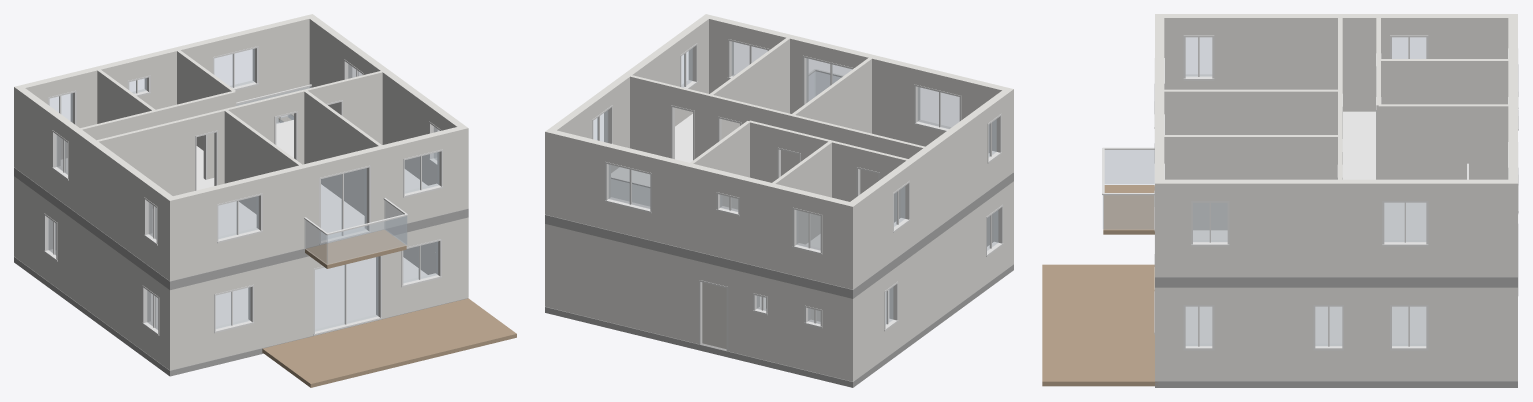
Rendered from house2_scandi_shell.glb.
3 renders of one model, left to right at view 1: azimuth 30°, elevation 25°; view 2: azimuth 150°, elevation 25°; view 3: azimuth 270°, elevation 25°, orthographic. The views are drawn at different scales.
Visible parts, largest first — view 1: GF_Terrace, Ext_W.003, Ext_W.010, Ext_S.012, Ext_S.003, FF_y46, Ext_S.009, FF_x73, Floor_GF_Living_room, Ext_S, Ext_N.018, Frame.010 (+57 smaller); view 2: Ext_N.008, Ext_W.003, Ext_W.010, Ext_N.015, Ext_N.018, Ext_N.012, Ext_S.012, FF_x73, Ext_W.013, Slab, FF_x45, Ext_N.009 (+56 smaller); view 3: Ext_E.013, GF_Terrace, Ext_W.010, FF_x54, Ext_E.003, FF_x73, FF_x45, Ext_E.016, Ext_E.009, FF_x26, Ext_E.006, Ext_W.013 (+36 smaller).
Part boxes in pixels (bbox=[...]): GF_Terrace: bbox=[262, 298, 516, 387]; Ext_W.003: bbox=[57, 208, 142, 350]; Ext_W.010: bbox=[69, 125, 150, 262]; Ext_S.012: bbox=[258, 161, 319, 258]; Ext_S.003: bbox=[254, 256, 313, 349]; FF_y46: bbox=[97, 117, 194, 207]; Ext_S.009: bbox=[166, 186, 216, 281]; FF_x73: bbox=[304, 90, 381, 215]; Floor_GF_Living_room: bbox=[226, 257, 427, 329]; Ext_S: bbox=[166, 279, 213, 370]; Ext_N.018: bbox=[254, 14, 315, 100]; Frame.010: bbox=[315, 257, 378, 331]; Ext_N.008: bbox=[545, 224, 698, 343]; Ext_W.003: bbox=[898, 202, 985, 348]; Ext_W.010: bbox=[903, 106, 987, 247]; Ext_N.015: bbox=[652, 155, 720, 256]; Ext_N.018: bbox=[545, 128, 608, 228]; Ext_N.012: bbox=[740, 176, 796, 274]; Ext_S.012: bbox=[855, 51, 917, 143]; FF_x73: bbox=[709, 38, 789, 138]; Ext_W.013: bbox=[850, 176, 892, 286]; Slab: bbox=[545, 264, 1013, 387]; FF_x45: bbox=[792, 58, 871, 133]; Ext_N.009: bbox=[822, 196, 857, 289]; Ext_E.013: bbox=[1229, 179, 1382, 276]; GF_Terrace: bbox=[1042, 264, 1157, 386]; Ext_W.010: bbox=[1214, 14, 1389, 111]; FF_x54: bbox=[1378, 104, 1508, 179]; Ext_E.003: bbox=[1214, 287, 1313, 380]; FF_x73: bbox=[1164, 135, 1339, 230]; FF_x45: bbox=[1164, 89, 1340, 134]; Ext_E.016: bbox=[1428, 179, 1508, 276]; Ext_E.009: bbox=[1428, 287, 1508, 380]; FF_x26: bbox=[1379, 59, 1508, 104]; Ext_E.006: bbox=[1344, 287, 1389, 380]; Ext_W.013: bbox=[1428, 14, 1508, 58].
Size of the model in its own units: 10.54 by 5.9 by 12.47.
